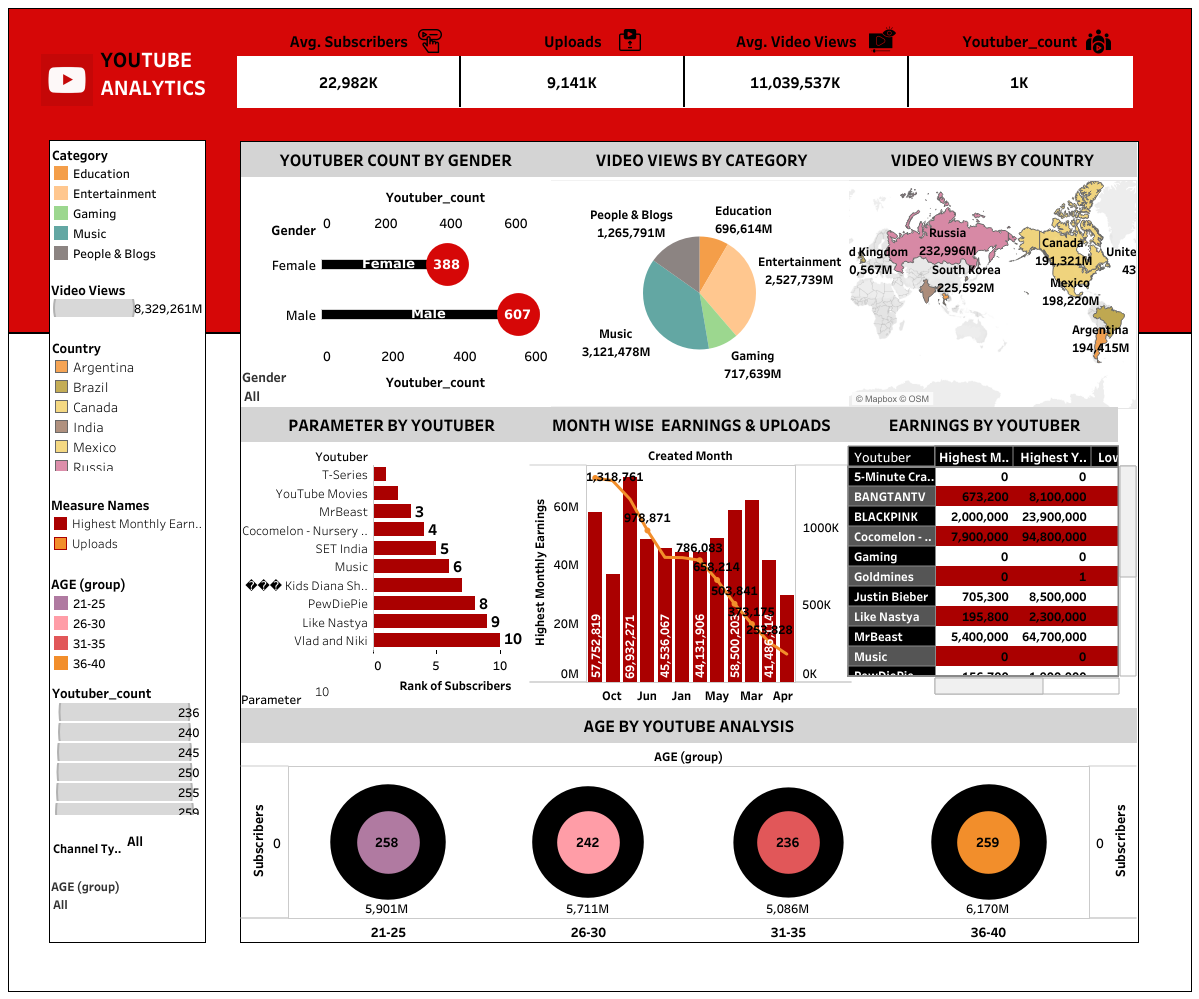

The page's visual inventory and layout, read from the dashboard file:
{"tool":"tableau","page":{"name":"Dashboard 4","canvas":[1200,1000],"ordinal":1},"visuals":[{"type":"title","box":[8,8,1184,325]},{"type":"text","box":[98,13,112,120]},{"type":"worksheet","title":"KPI","mark":"Automatic","box":[230,17,909,97]},{"type":"image","param":"Image/video-views.png","box":[869,26,27,32]},{"type":"image","param":"Image/subscription.png","box":[418,29,27,24]},{"type":"image","param":"Image/play.png","box":[619,29,43,22]},{"type":"image","param":"Image/subscriber.png","box":[1086,29,26,25]},{"type":"image","param":"Image/icon.png","box":[41,54,52,73]},{"type":"worksheet","title":"Youtuber count by gender","mark":"Automatic","rows":["Gender"],"cols":["Calculation_1524468524318961664","Calculation_1524468524318961664"],"box":[241,142,310,257]},{"type":"worksheet","title":"Video views by category","mark":"Pie","box":[551,142,298,265]},{"type":"worksheet","title":"Video views by country","mark":"Multipolygon","box":[848,142,289,267]},{"type":"legend","title":"Video views by category","param":"[federated.1hs1aik125hxh910miiot14wb3z7].[none:category:nk]","box":[51,143,151,136]},{"type":"legend","title":"Video views by category","param":"[federated.1hs1aik125hxh910miiot14wb3z7].[sum:video views:qk]","box":[50,278,155,53]},{"type":"legend","title":"Video views by country","param":"[federated.1hs1aik125hxh910miiot14wb3z7].[none:Country:nk]","box":[51,336,154,135]},{"type":"filter","title":"Youtuber count by gender","param":"[federated.1hs1aik125hxh910miiot14wb3z7].[none:Gender:nk]","box":[242,366,84,42]},{"type":"worksheet","title":"Parameter by youtuber","mark":"Automatic","rows":["Youtuber"],"box":[241,407,298,288]},{"type":"worksheet","title":"Month_wise earning & uploads","mark":"Automatic","rows":["highest_monthly_earnings","uploads"],"cols":["created_month"],"box":[530,407,323,298]},{"type":"worksheet","title":"Youtuber_wise earnings","mark":"Automatic","rows":["Youtuber"],"box":[847,407,290,288]},{"type":"legend","title":"Month_wise earning & uploads","param":"[federated.1hs1aik125hxh910miiot14wb3z7].[:Measure Names]","box":[50,493,155,69]},{"type":"legend","title":"age_wise youtuber analysis","param":"[federated.1hs1aik125hxh910miiot14wb3z7].[AGE (group)]","box":[50,572,155,115]},{"type":"legend","title":"age_wise youtuber analysis","param":"[federated.1hs1aik125hxh910miiot14wb3z7].[usr:Calculation_1524468524318961664:qk","box":[51,681,152,135]},{"type":"parameter","param":"[Parameters].[Parameter 2]","box":[241,682,148,34]},{"type":"worksheet","title":"age_wise youtuber analysis","mark":"Automatic","rows":["subscribers","subscribers"],"box":[241,708,896,234]},{"type":"filter","title":"KPI","param":"[federated.1hs1aik125hxh910miiot14wb3z7].[none:channel_type:nk]","box":[53,831,152,34]},{"type":"filter","title":"age_wise youtuber analysis","param":"[federated.1hs1aik125hxh910miiot14wb3z7].[AGE (group)]","box":[51,876,154,64]}]}

Visuals, with their boxes in screenshot pixels (x1, y1, x2, y2), scaled from the page's 1200x1000 canvas onto the 1199x999 screenshot:
title: (x1=8, y1=8, x2=1191, y2=333)
text: (x1=98, y1=13, x2=210, y2=133)
"KPI" worksheet: (x1=230, y1=17, x2=1138, y2=114)
image: (x1=868, y1=26, x2=895, y2=58)
image: (x1=418, y1=29, x2=445, y2=53)
image: (x1=618, y1=29, x2=661, y2=51)
image: (x1=1085, y1=29, x2=1111, y2=54)
image: (x1=41, y1=54, x2=93, y2=127)
"Youtuber count by gender" worksheet: (x1=241, y1=142, x2=551, y2=399)
"Video views by category" worksheet (Pie marks): (x1=551, y1=142, x2=848, y2=407)
"Video views by country" worksheet (Multipolygon marks): (x1=847, y1=142, x2=1136, y2=409)
"Video views by category" legend: (x1=51, y1=143, x2=202, y2=279)
"Video views by category" legend: (x1=50, y1=278, x2=205, y2=331)
"Video views by country" legend: (x1=51, y1=336, x2=205, y2=471)
"Youtuber count by gender" filter: (x1=242, y1=366, x2=326, y2=408)
"Parameter by youtuber" worksheet: (x1=241, y1=407, x2=539, y2=694)
"Month_wise earning & uploads" worksheet: (x1=530, y1=407, x2=852, y2=704)
"Youtuber_wise earnings" worksheet: (x1=846, y1=407, x2=1136, y2=694)
"Month_wise earning & uploads" legend: (x1=50, y1=493, x2=205, y2=561)
"age_wise youtuber analysis" legend: (x1=50, y1=571, x2=205, y2=686)
"age_wise youtuber analysis" legend: (x1=51, y1=680, x2=203, y2=815)
parameter: (x1=241, y1=681, x2=389, y2=715)
"age_wise youtuber analysis" worksheet: (x1=241, y1=707, x2=1136, y2=941)
"KPI" filter: (x1=53, y1=830, x2=205, y2=864)
"age_wise youtuber analysis" filter: (x1=51, y1=875, x2=205, y2=939)
